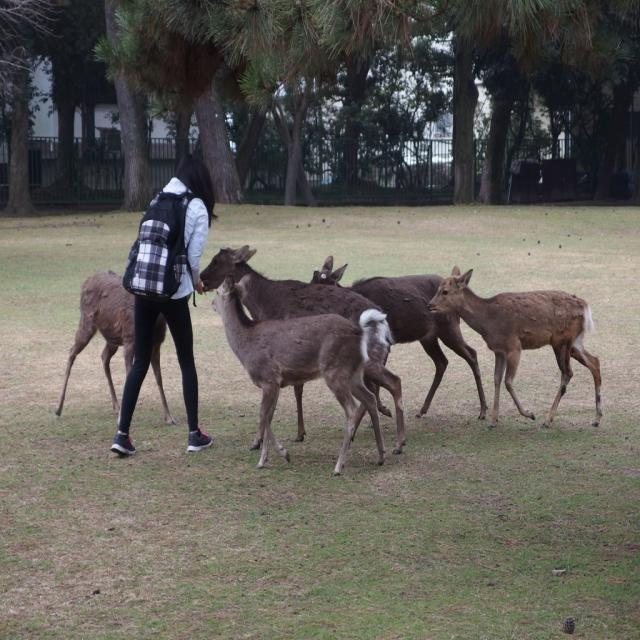Deer: (201, 243, 401, 451), (211, 272, 387, 473), (309, 255, 489, 420), (426, 264, 600, 429), (53, 270, 175, 429)
